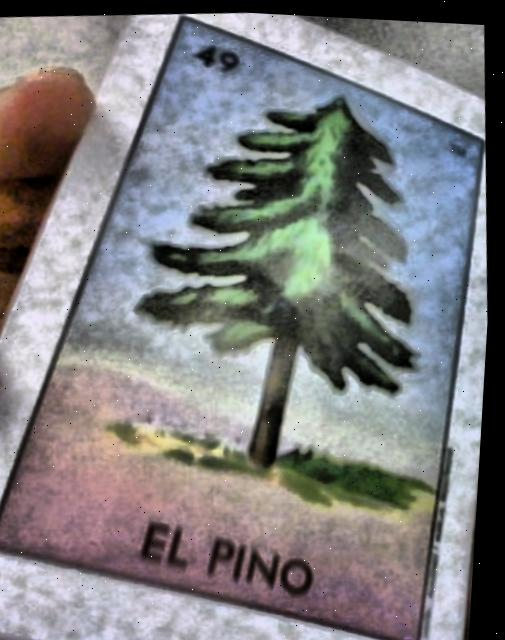El Pino: (0, 16, 485, 638)
